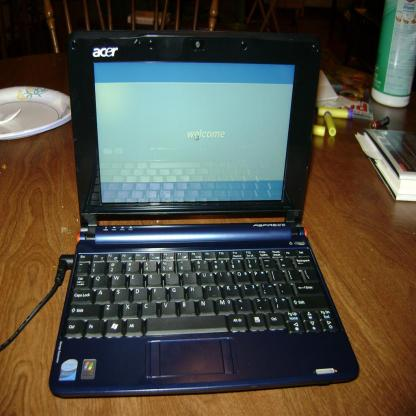board: (47, 30, 360, 397)
